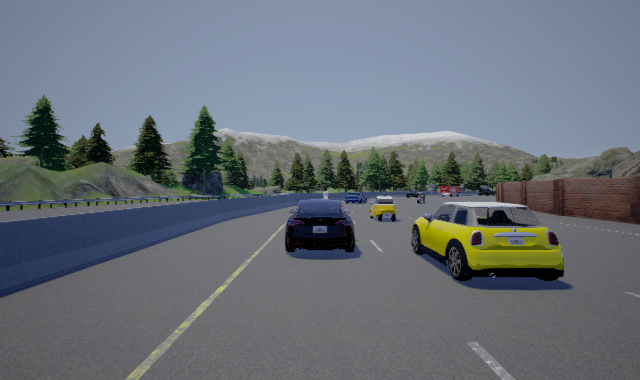vehicle: (411, 202, 564, 281), (285, 199, 355, 253), (370, 201, 396, 222), (439, 185, 465, 198), (344, 191, 366, 205), (404, 189, 426, 201)
